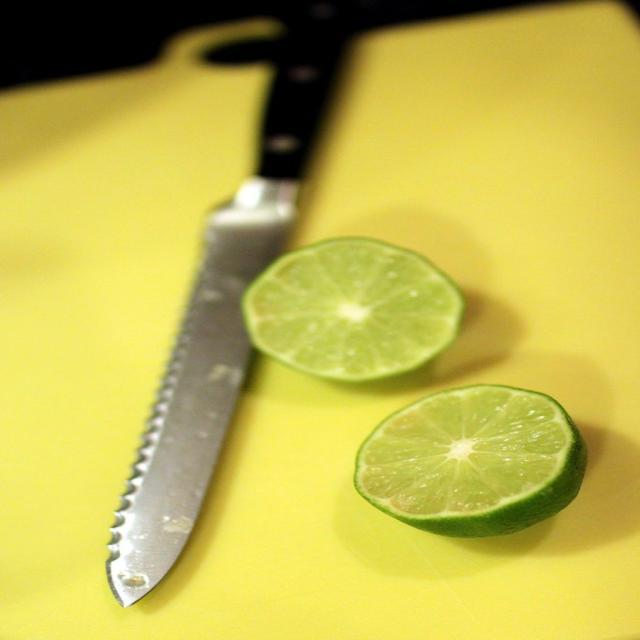Knife: (108, 10, 352, 606)
